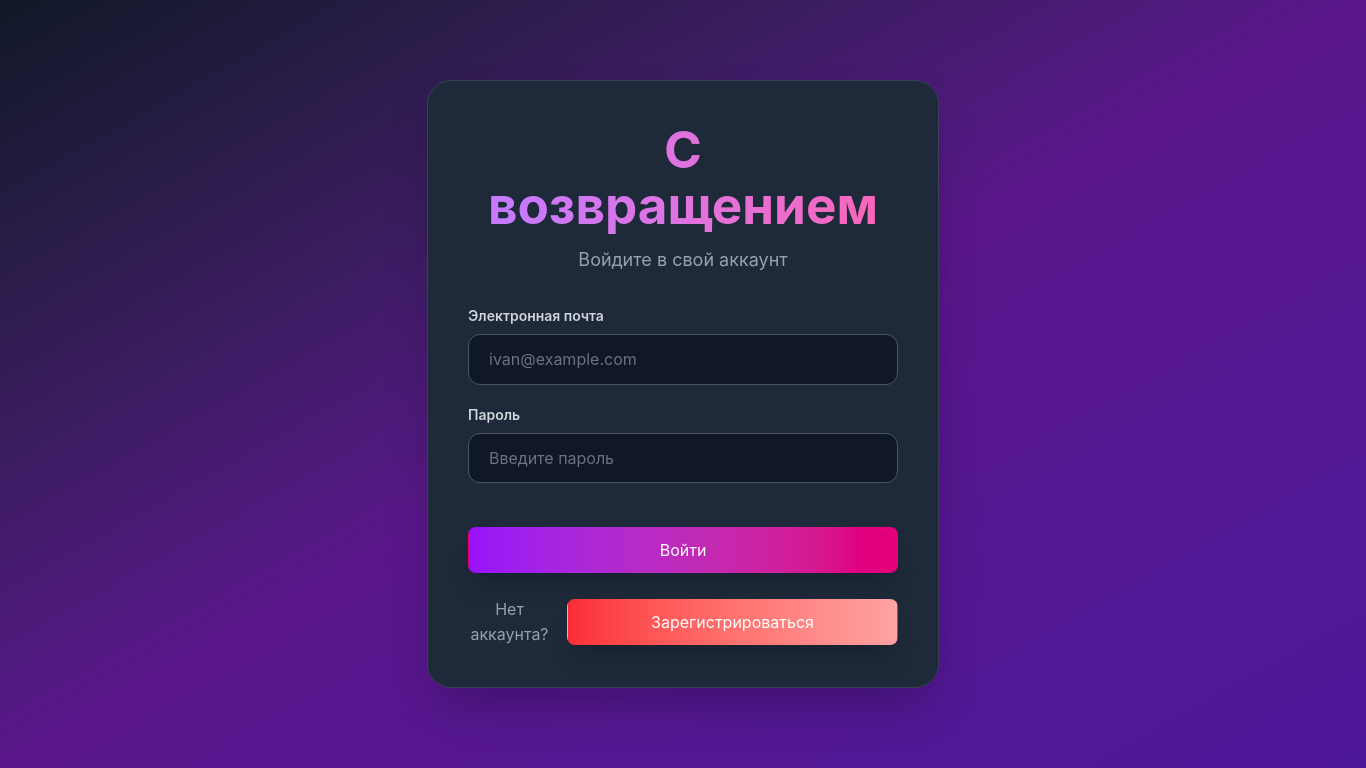
Test case: Login Page Coverage (60%+) › успешный вход: переход на /gallery
Type "success@test.com" into the field with placeholder "ivan@example.com".
click(683, 359); type("success@test.com")  # box [468,334,898,384]
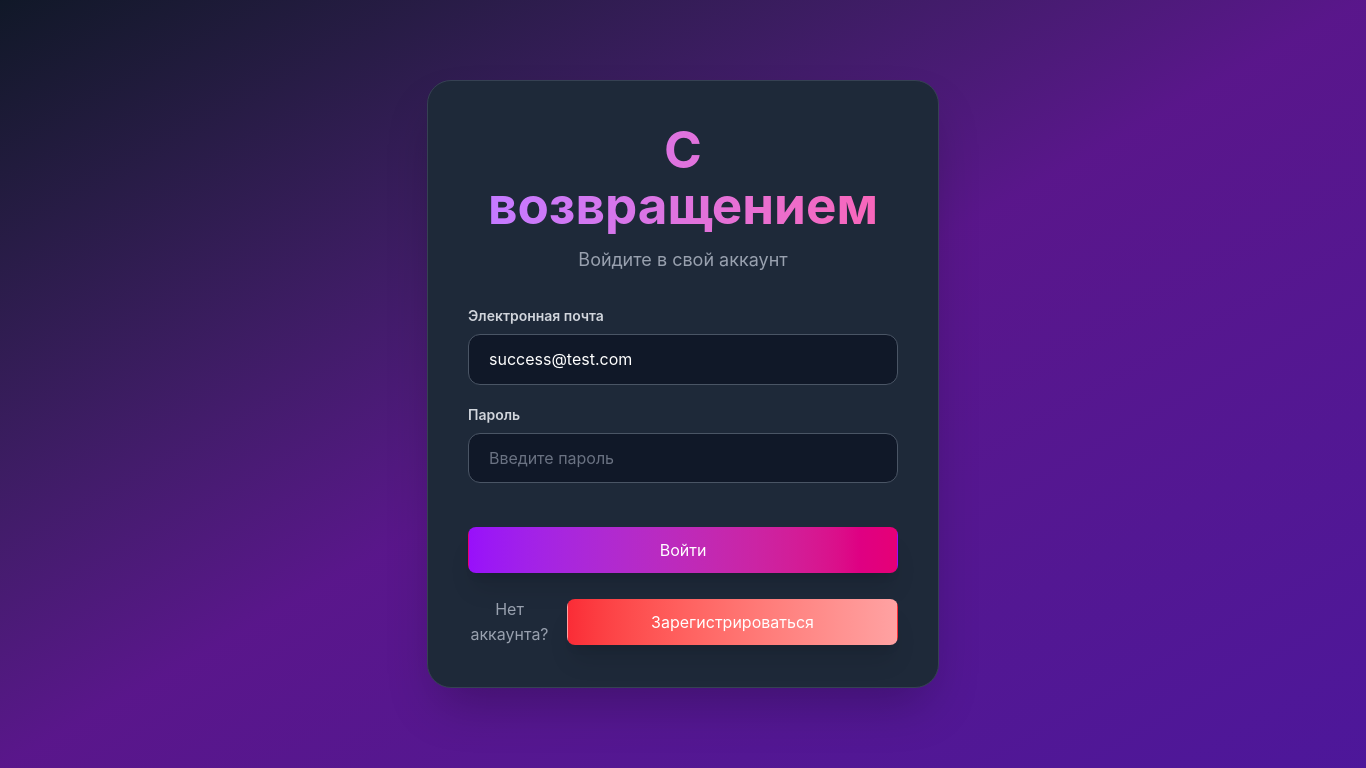
Type "password123" into the password field with placeholder "Введите пароль".
click(683, 458); type("password123")  # box [468,432,898,483]
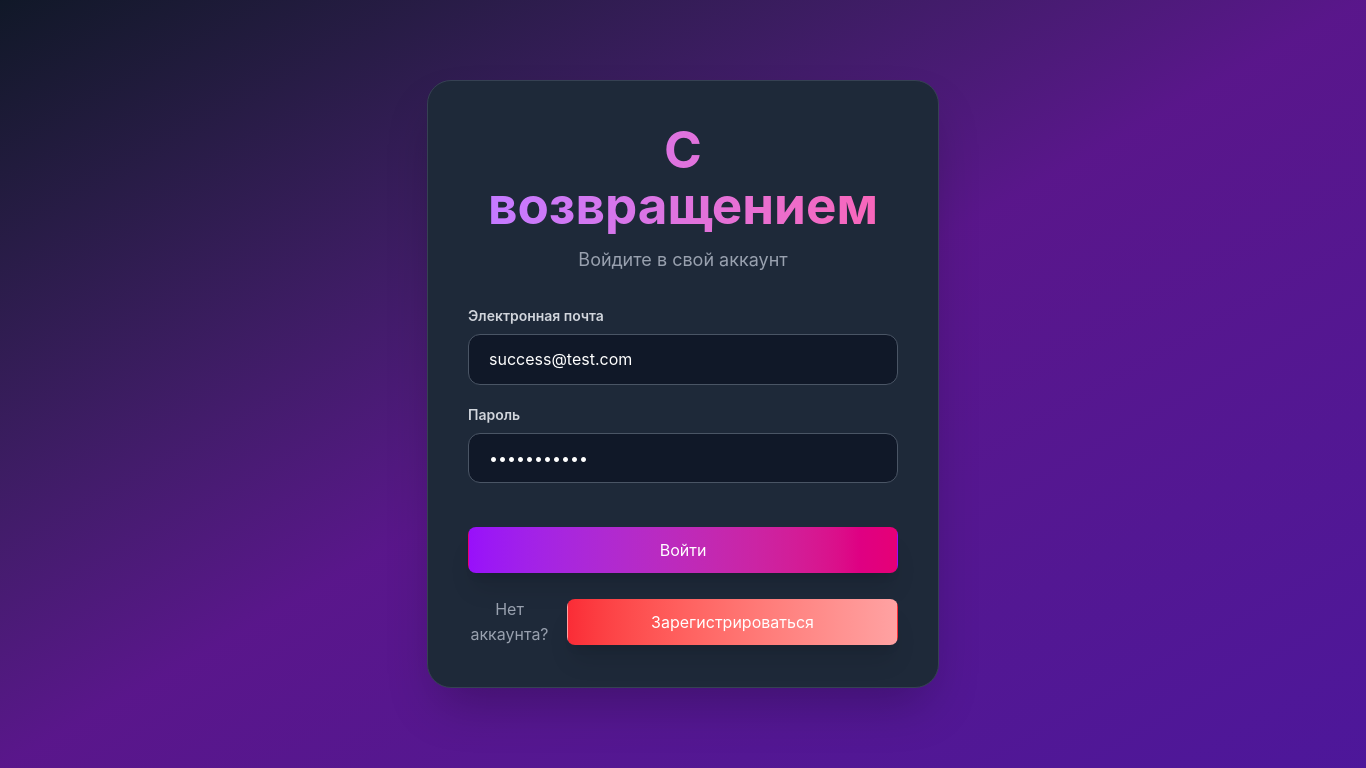
Click the button "Войти".
click(683, 550)  # box [468,527,898,573]
Wait 1100 ms
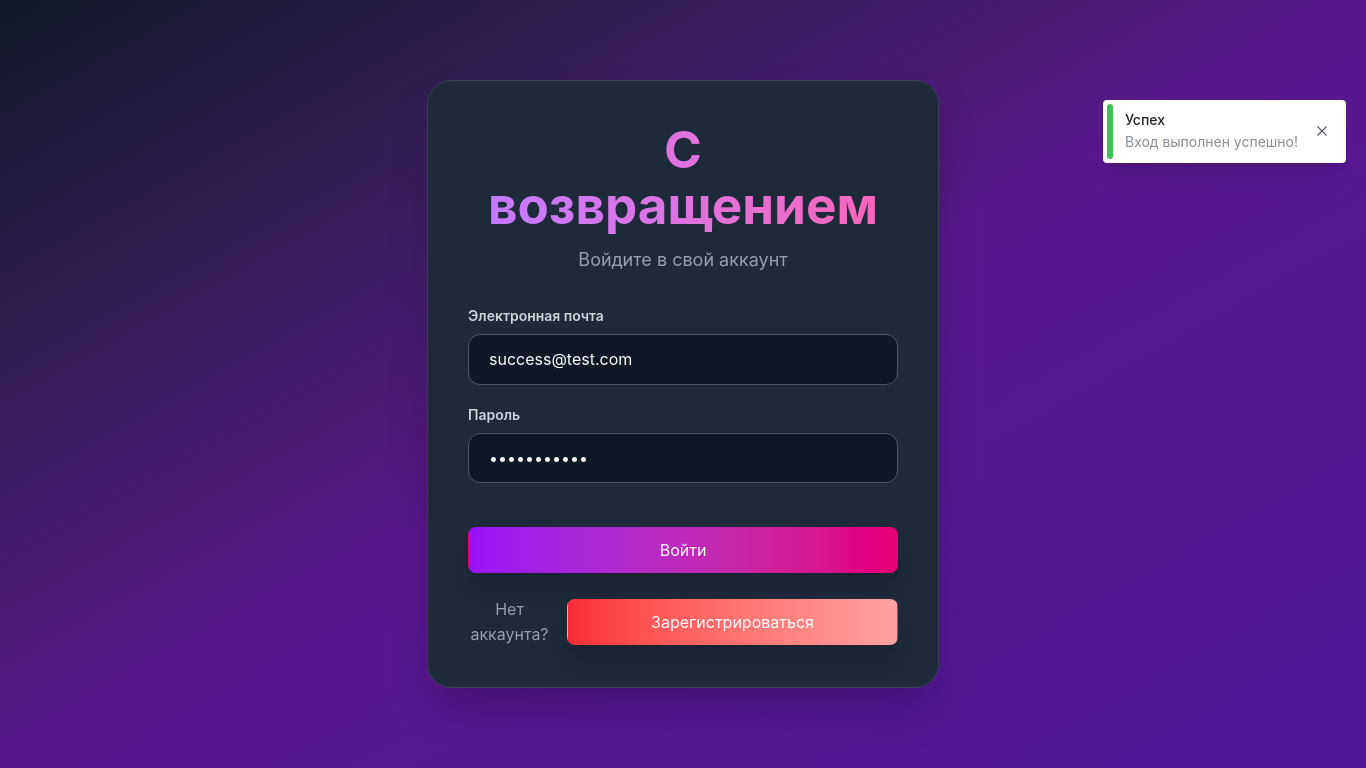
Now the text "Вход выполнен успешно!" is shown, box [1125,132,1298,153]
